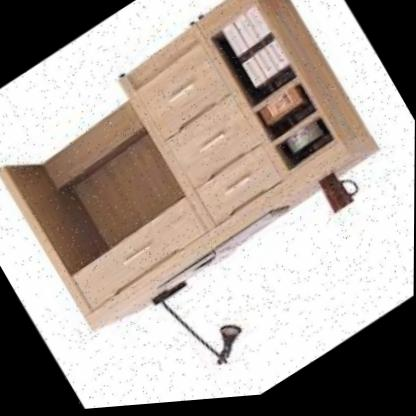Table: (0, 0, 414, 399)
